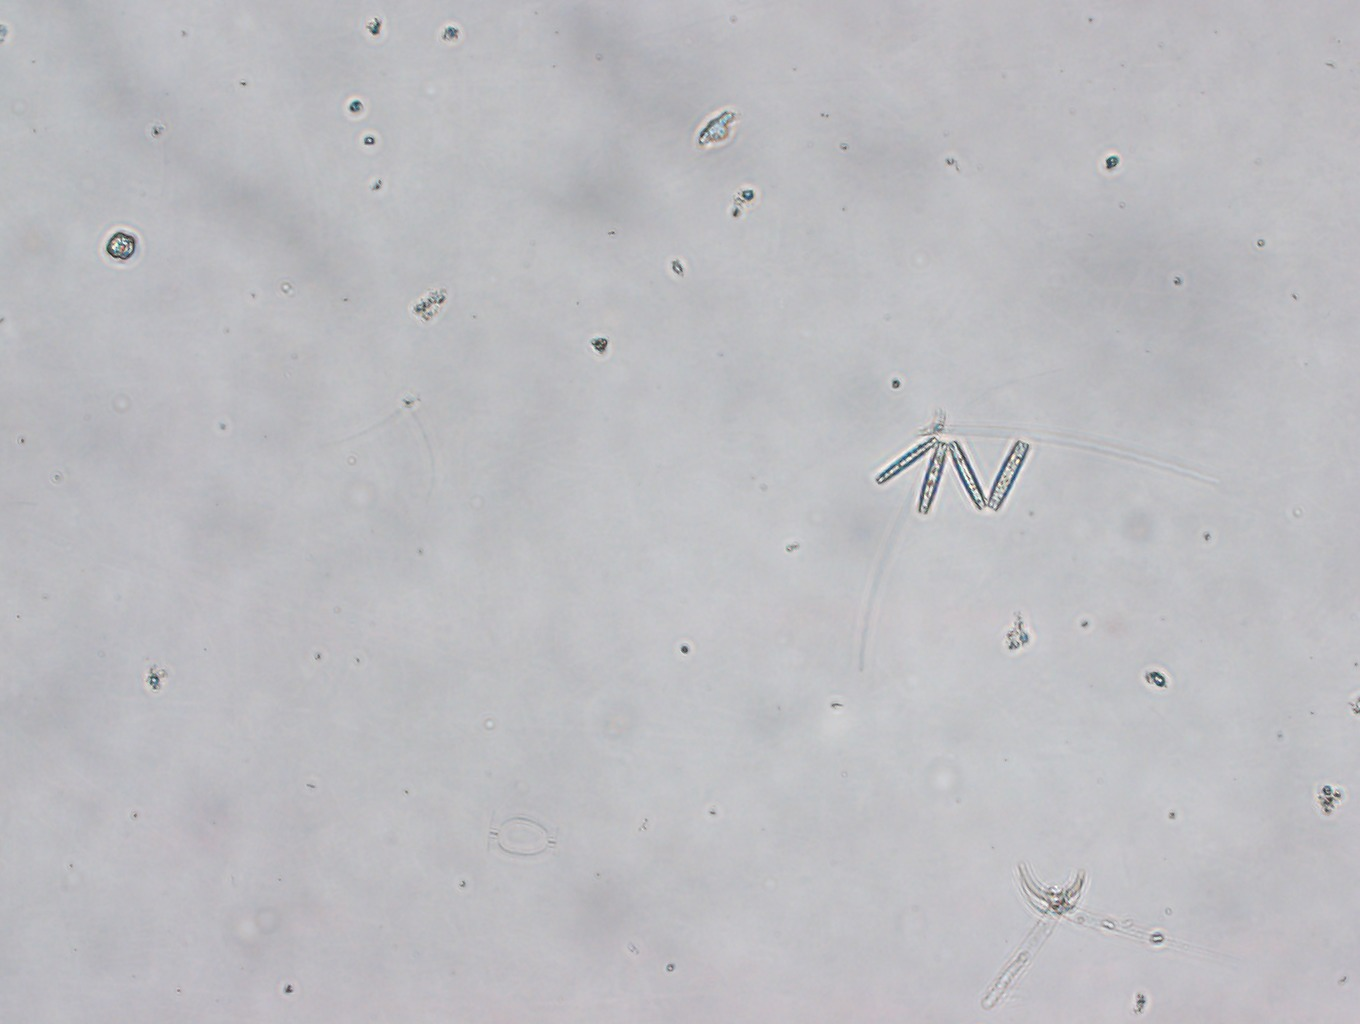thalassionema nitzschioides: (875, 439, 1030, 513)
